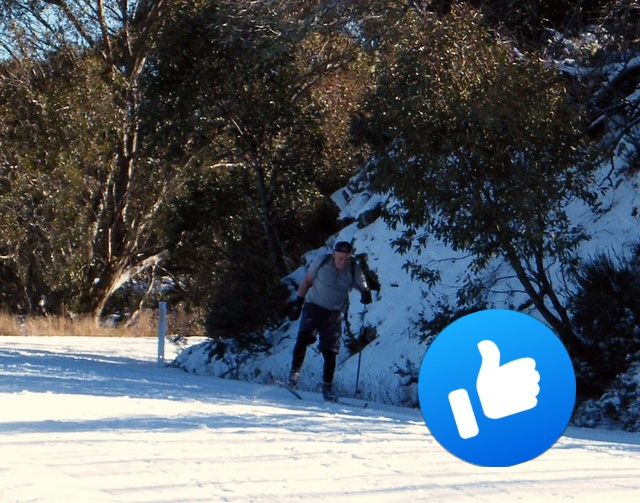like: (418, 309, 576, 467)
